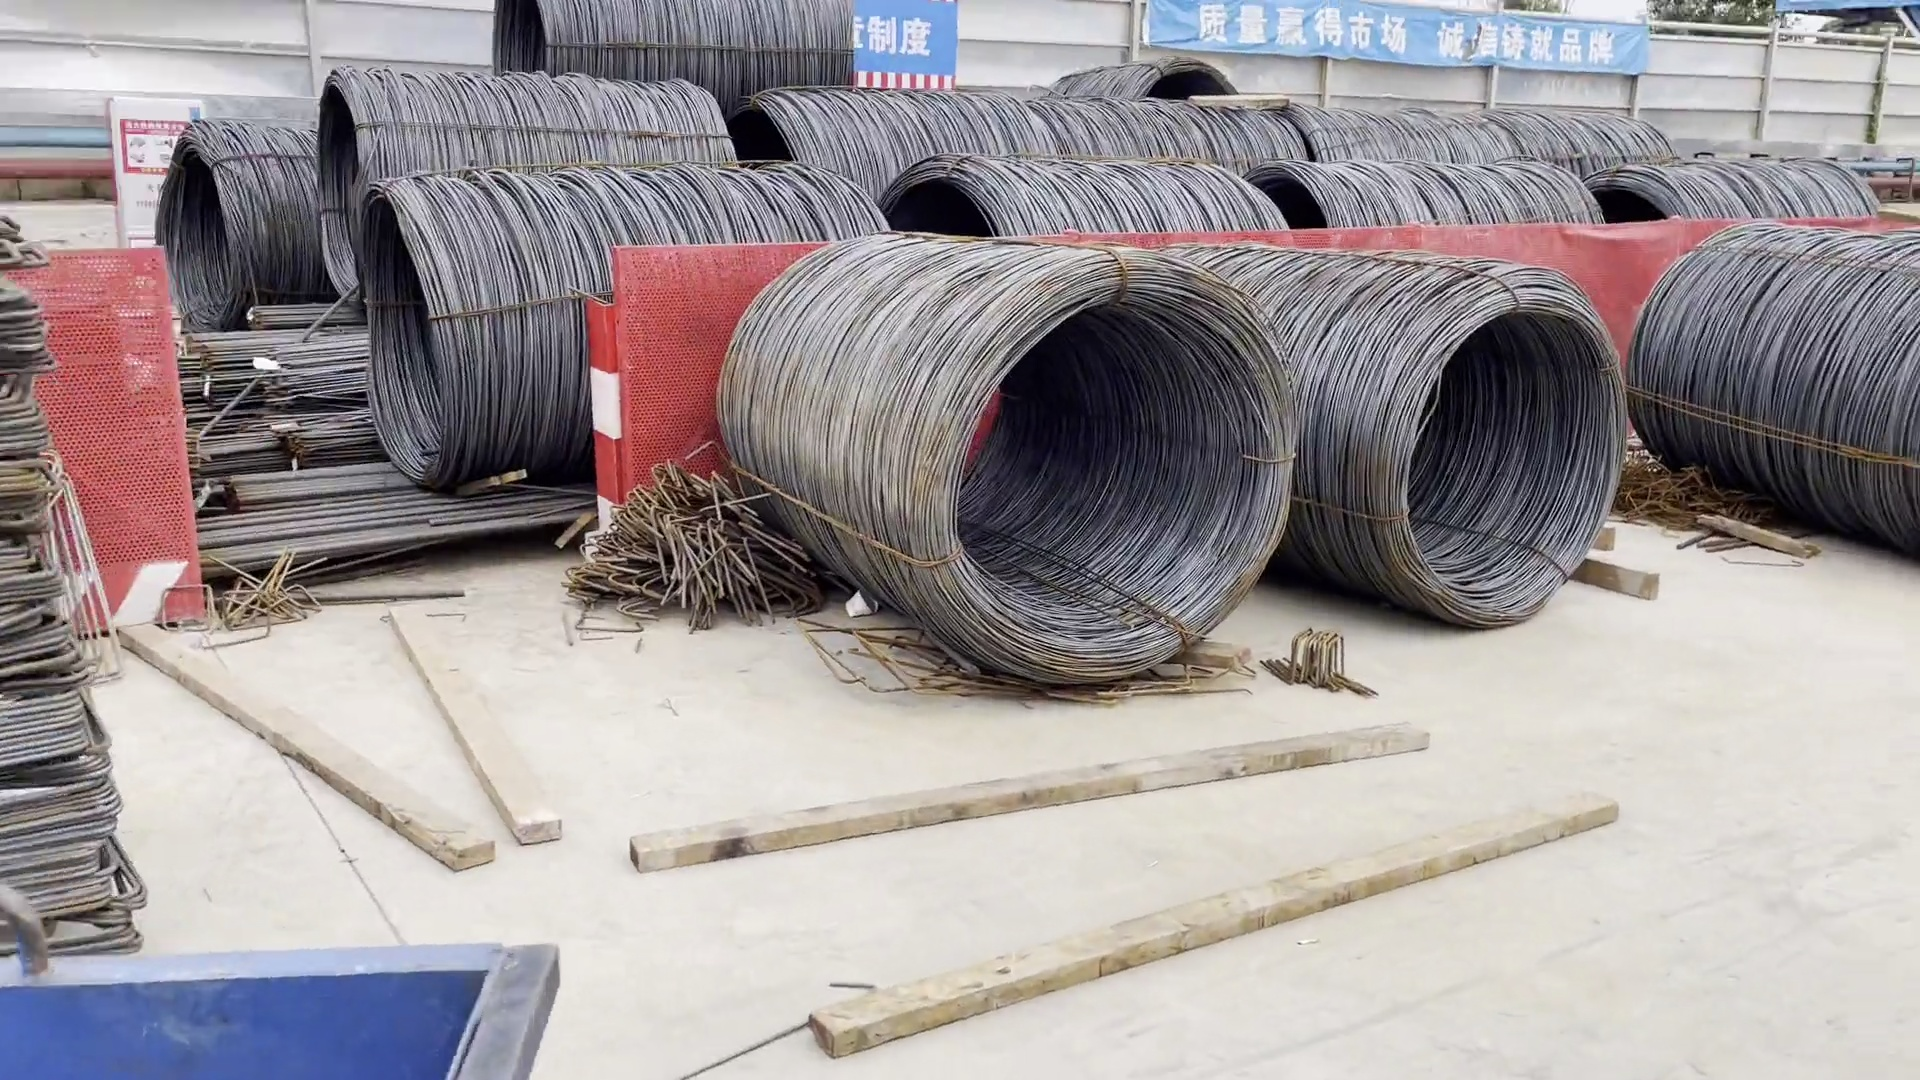hopper: (1, 931, 566, 1080)
slogan: (1184, 1, 1631, 73)
